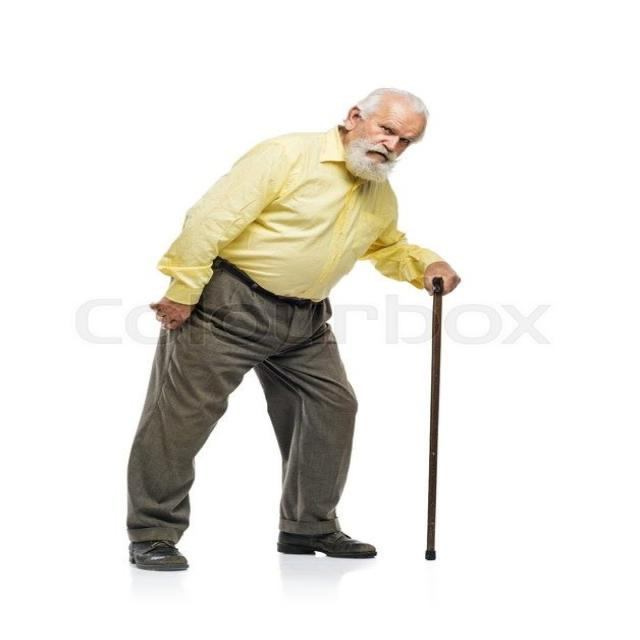idoso em pe: (127, 90, 446, 562)
